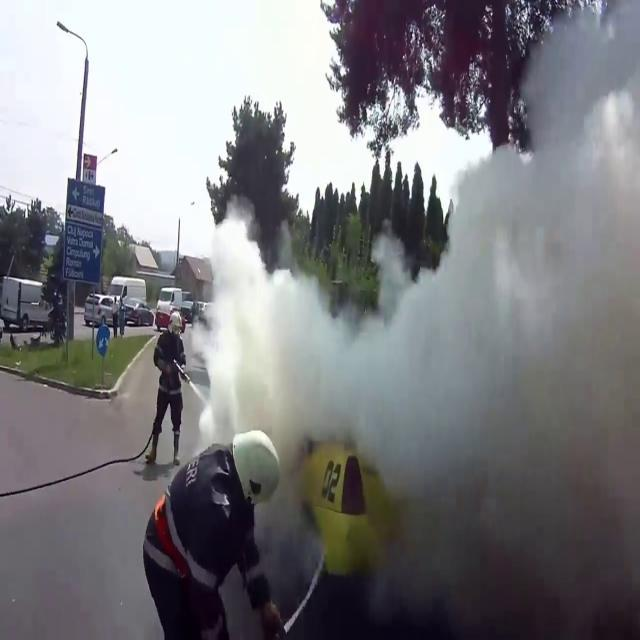Smoke: (192, 5, 640, 628)
